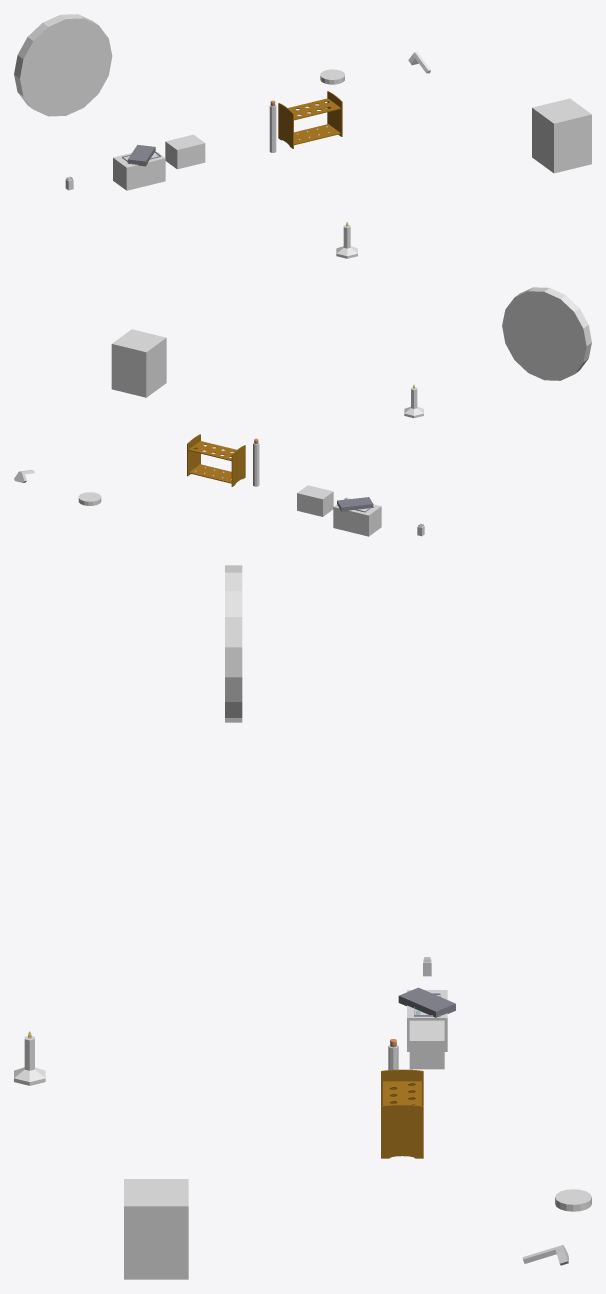
File: labObjectsSet2.glb
The picture shows the model from 3 angles, top to bottom: view 1: azimuth 30°, elevation 25°; view 2: azimuth 150°, elevation 25°; view 3: azimuth 270°, elevation 25°; orthographic projection. The views are drawn at different scales.
Parts seen in each view (by area): view 1: hitSurface (×7), Cube, surface.001, Cube.001, surface.005, lid; view 2: hitSurface (×5), Cube, surface.001, Cube.001, lid, surface.005; view 3: hitSurface (×3), surface.005, lid, Cube.
Boxes of the visible parts, x1,y1,x2,y2 form: hitSurface (×7): (14, 14, 591, 258); Cube: (288, 98, 340, 120); surface.001: (278, 103, 293, 148); Cube.001: (294, 124, 340, 145); surface.005: (327, 91, 342, 136); lid: (127, 144, 155, 166); hitSurface (×5): (111, 287, 591, 536); Cube: (188, 441, 236, 460); surface.001: (231, 445, 245, 486); Cube.001: (189, 464, 231, 483); lid: (337, 497, 373, 511); surface.005: (187, 434, 200, 476); hitSurface (×3): (124, 565, 444, 1279); surface.005: (381, 1104, 423, 1158); lid: (398, 987, 455, 1017); Cube: (383, 1081, 421, 1105).
Size of what is drawn, in the model's own units: 2.63 by 1.15 by 1.66.
